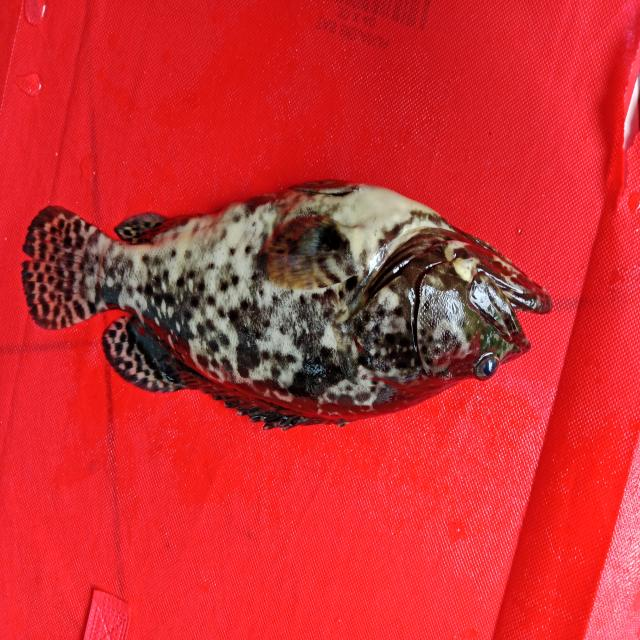ikan: (20, 172, 558, 446)
